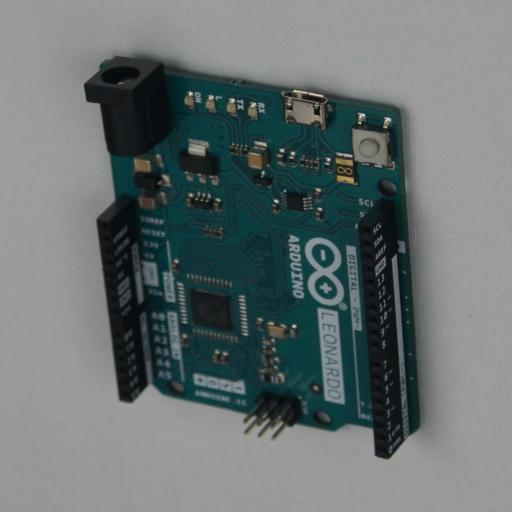Arduino Leonardo: (84, 54, 425, 459)
